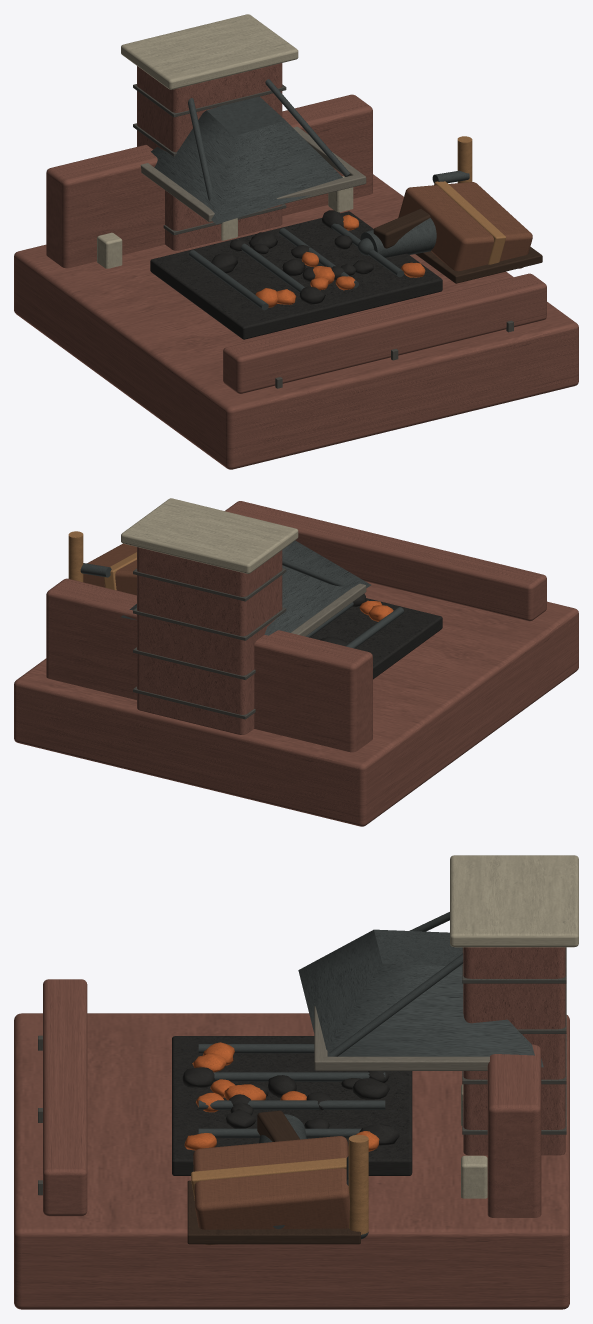
Rendered from forge.glb.
The picture shows the model from 3 angles, top to bottom: view 1: azimuth 30°, elevation 25°; view 2: azimuth 150°, elevation 25°; view 3: azimuth 270°, elevation 25°; orthographic projection. The views are drawn at different scales.
Parts seen in each view (by area): view 1: forge; view 2: forge; view 3: forge.
Part boxes in pixels (x1,y1,x2,y2): forge: [14, 14, 578, 469]; forge: [14, 498, 578, 826]; forge: [14, 855, 578, 1309].
Size of the model in its own units: 3 by 1.8 by 3.
1 material, 1 textured.
